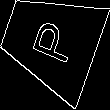P_W: (23, 15, 77, 68)
